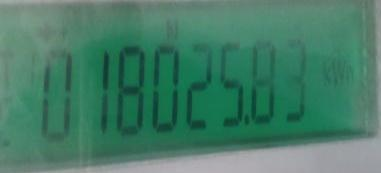.: (322, 59, 358, 89)
0: (242, 113, 252, 126)
1: (38, 51, 77, 139), (151, 45, 180, 134)
2: (100, 47, 113, 137)
3: (186, 43, 216, 132)
4: (284, 38, 310, 126)
6: (218, 42, 248, 128)
9: (114, 45, 148, 136), (248, 39, 277, 127)
